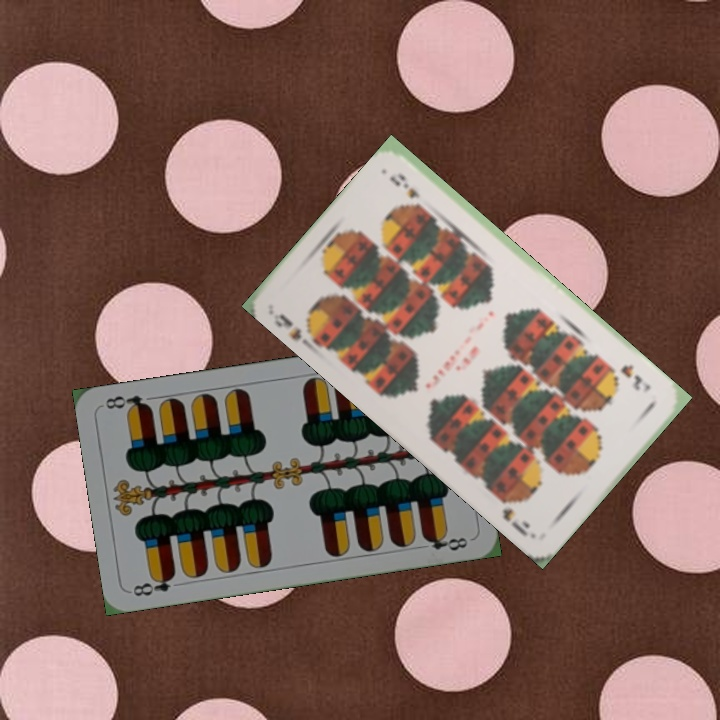E8: (128, 569, 178, 599)
S9: (269, 309, 319, 353), (616, 360, 654, 395)
